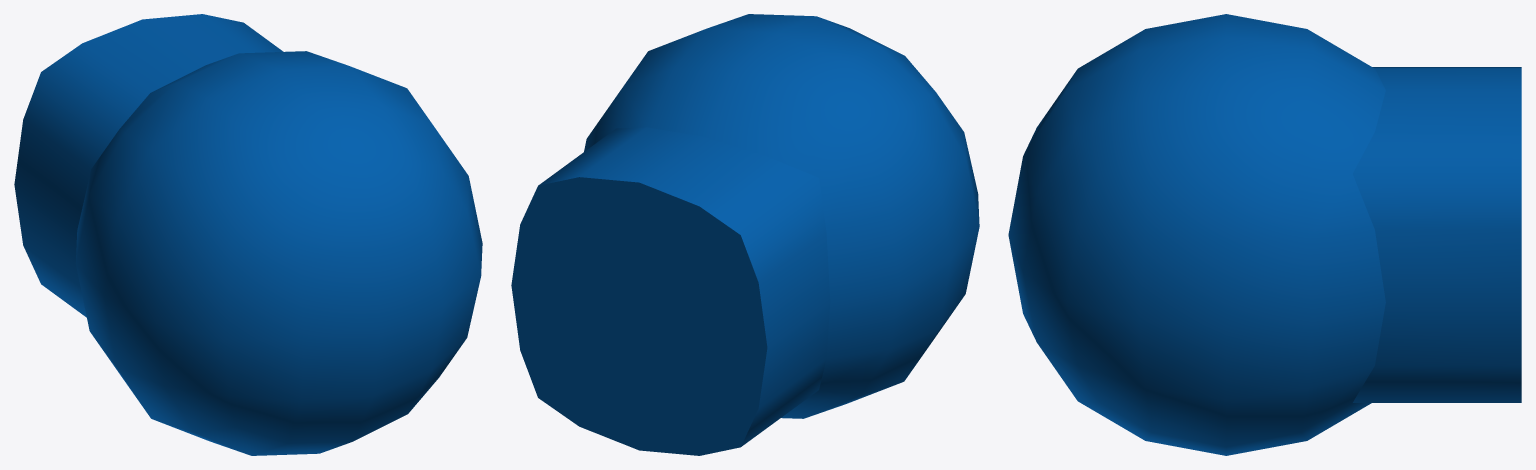
The model's file is glove_only.fbx.
3 views of the same model, side by side, from view 1: azimuth 30°, elevation 25°; view 2: azimuth 150°, elevation 25°; view 3: azimuth 270°, elevation 25° (orthographic). The views are drawn at different scales.
Visible parts, largest first — view 1: glove_only; view 2: glove_only; view 3: glove_only.
Part boxes in pixels (left/top/right/bottom): glove_only: left=14, top=14, right=482, bottom=455; glove_only: left=511, top=14, right=979, bottom=455; glove_only: left=1008, top=14, right=1521, bottom=455.
Size of the model in its own units: 0.3926 by 0.3926 by 0.4623.
